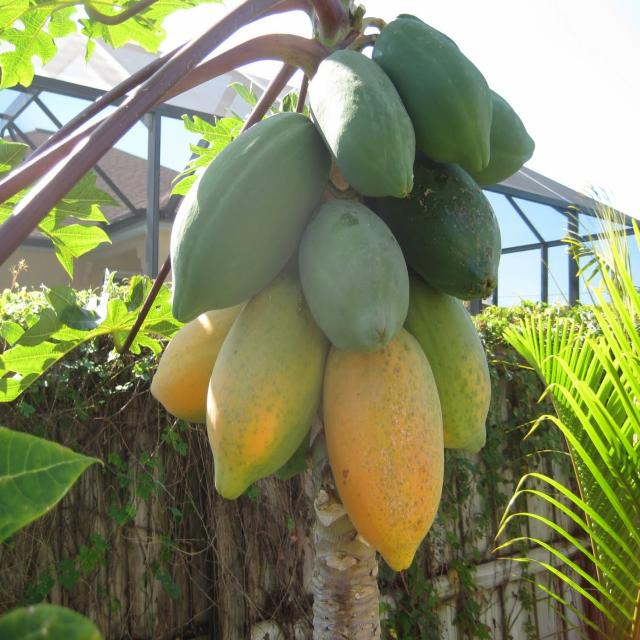Pepaya rippen: (320, 348, 446, 570), (202, 294, 316, 490), (418, 299, 497, 455), (138, 311, 242, 428)
Pepaya unrippen: (166, 123, 319, 304), (310, 50, 422, 206), (302, 190, 410, 346), (384, 13, 493, 158), (416, 171, 506, 291)
